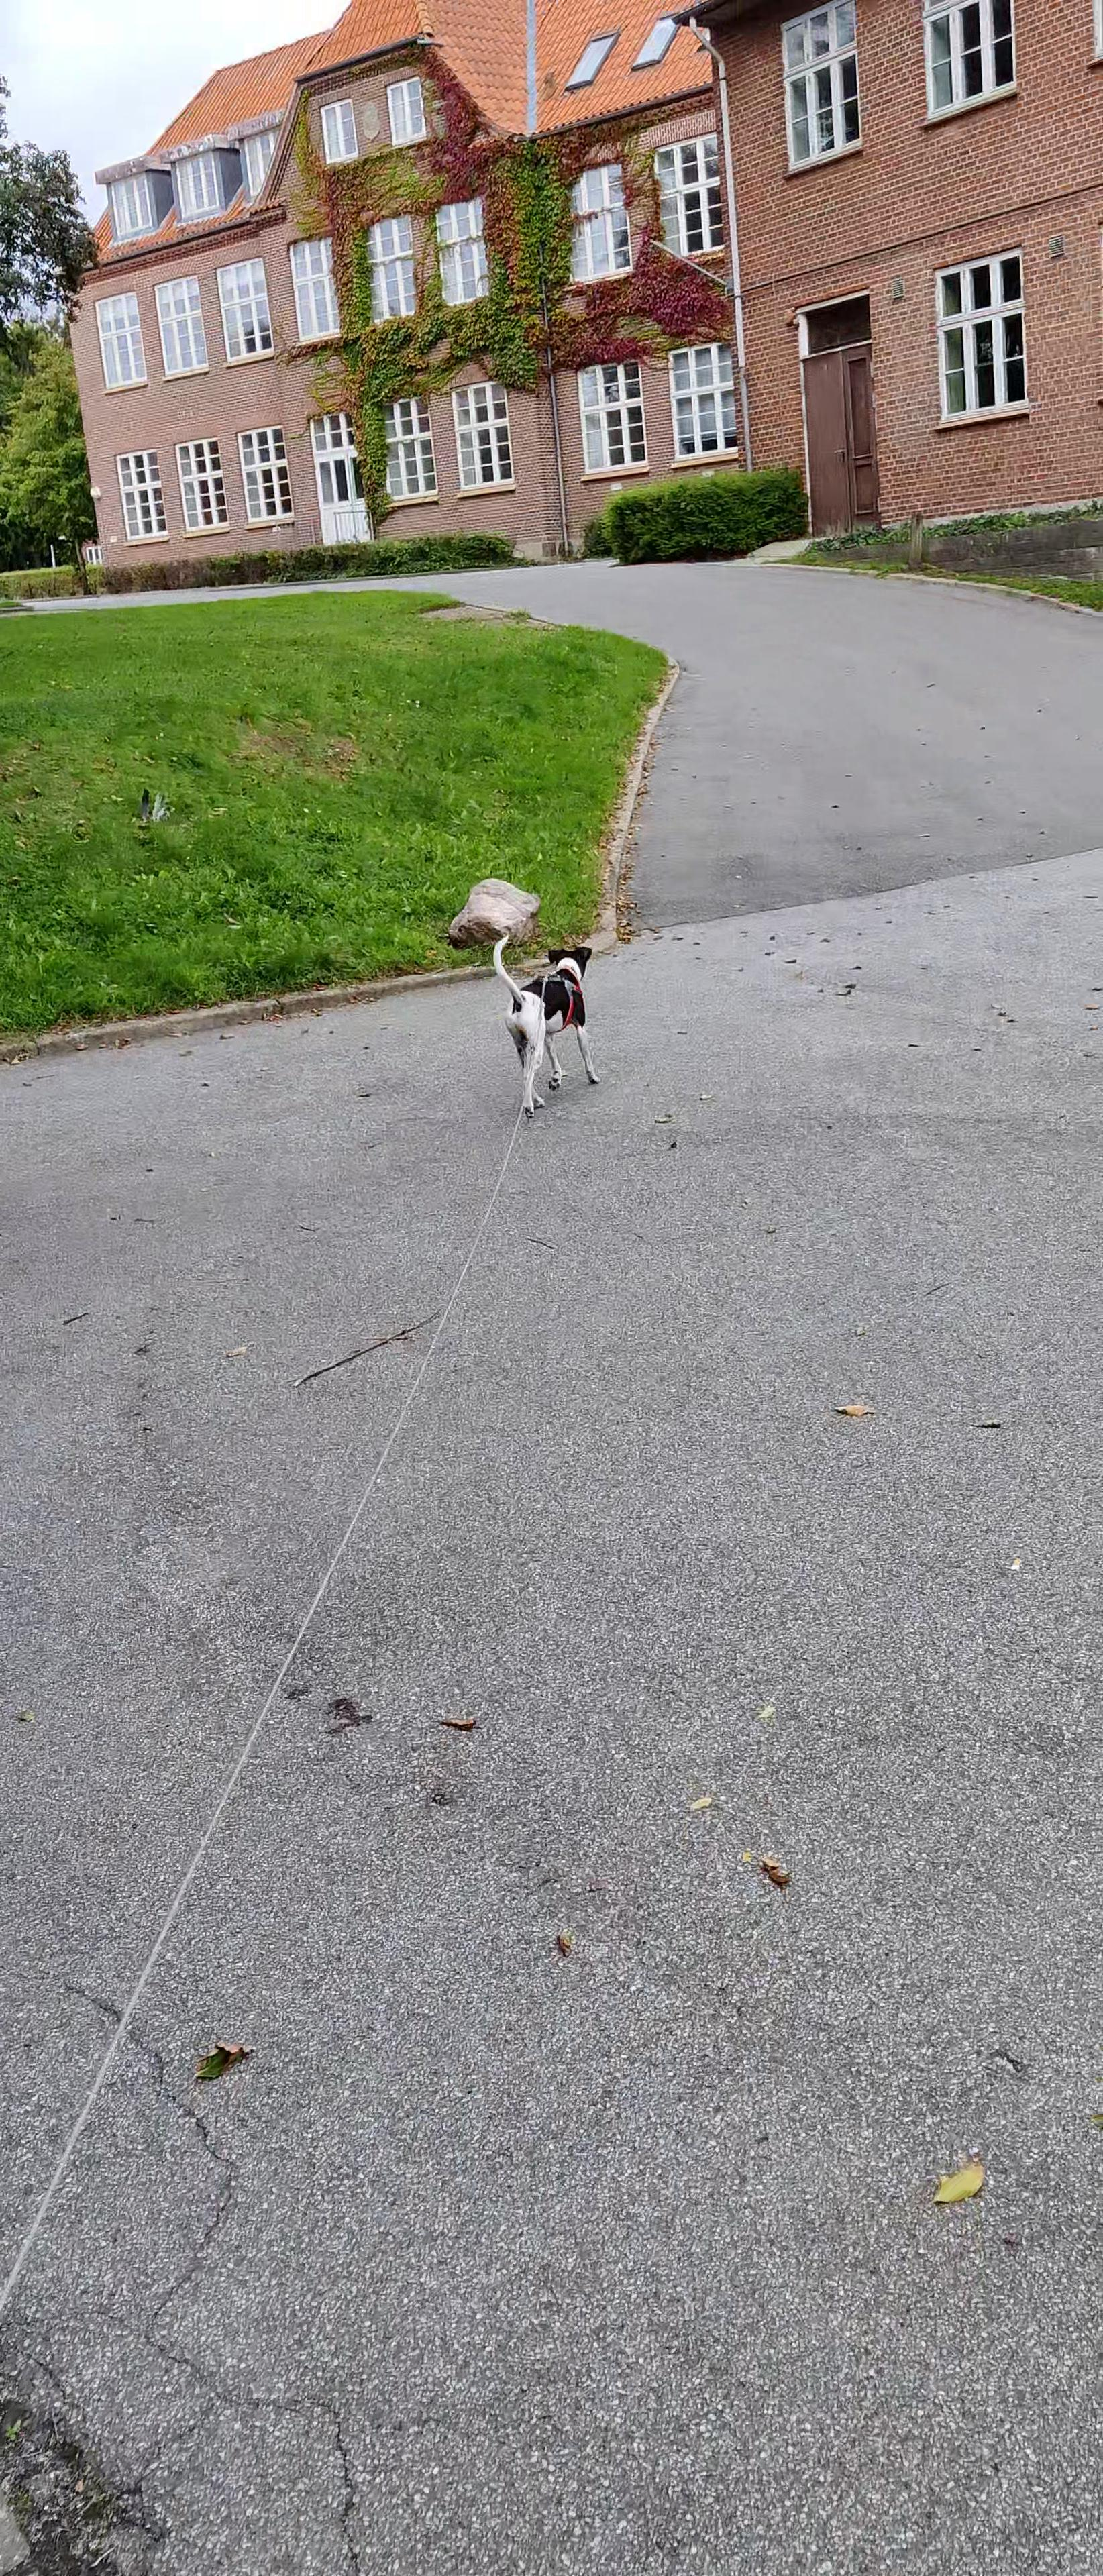Dog: (478, 922, 611, 1124)
